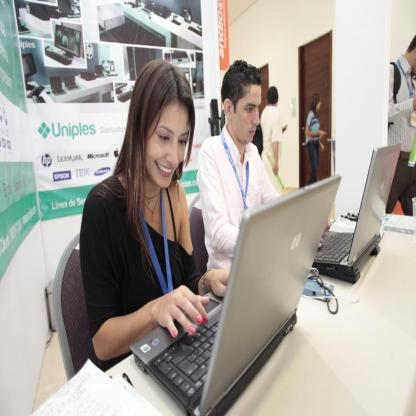board: (109, 209, 338, 405), (314, 144, 402, 284)
